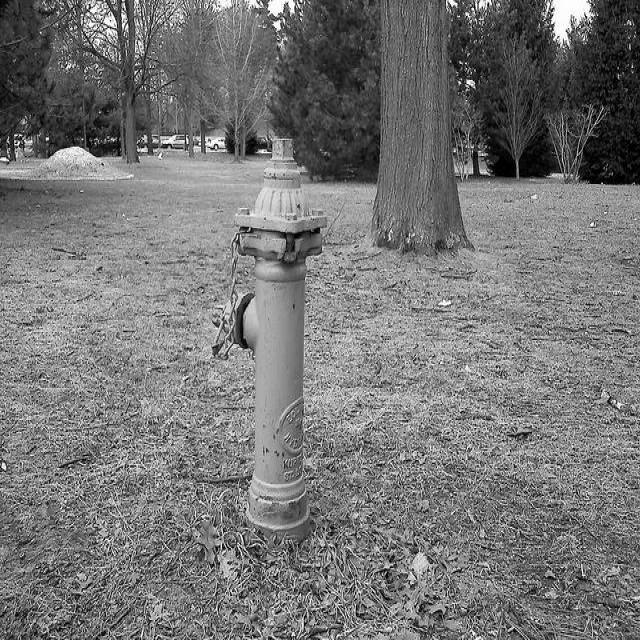vehicle: (202, 135, 228, 152), (161, 134, 189, 149), (6, 133, 24, 149), (256, 136, 270, 154), (152, 135, 160, 149)
